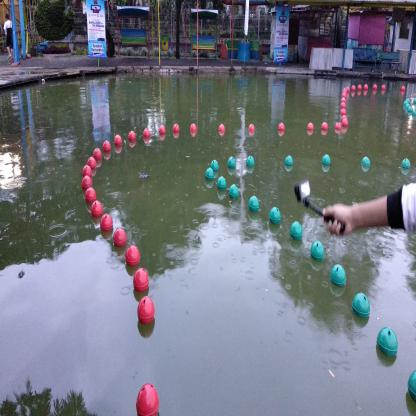green_buoy: (376, 325, 398, 358), (351, 292, 371, 319), (329, 263, 347, 287), (310, 240, 325, 262), (290, 220, 303, 241), (268, 206, 282, 225), (408, 368, 415, 404), (228, 182, 240, 199), (249, 195, 260, 212), (204, 167, 214, 181), (321, 153, 331, 166), (210, 158, 219, 172), (217, 176, 226, 190), (284, 154, 294, 166), (401, 158, 411, 170), (246, 155, 255, 168), (227, 156, 236, 168), (361, 156, 370, 166), (403, 100, 409, 106), (408, 105, 413, 112), (405, 103, 410, 109), (405, 98, 410, 103), (412, 108, 415, 116), (413, 97, 416, 103)
red_buoy: (136, 382, 158, 416), (137, 296, 155, 324), (133, 268, 149, 292), (125, 245, 140, 266), (113, 228, 127, 247), (100, 214, 113, 232), (90, 200, 103, 216), (81, 175, 93, 191), (85, 188, 96, 203), (82, 165, 92, 178), (87, 157, 97, 169), (102, 140, 111, 152), (93, 148, 102, 160), (143, 128, 151, 140), (128, 130, 136, 142), (114, 134, 122, 146), (172, 123, 180, 133), (278, 122, 285, 132), (334, 122, 342, 130), (218, 124, 226, 132), (341, 114, 348, 123), (341, 118, 348, 127), (307, 122, 314, 131), (321, 122, 328, 131), (190, 123, 197, 132), (159, 125, 166, 134), (248, 123, 255, 131), (340, 96, 346, 104), (340, 108, 346, 116), (400, 85, 406, 92), (340, 102, 346, 109), (351, 84, 356, 92), (357, 84, 362, 91), (381, 84, 386, 90), (364, 84, 368, 90), (346, 86, 350, 92), (343, 88, 347, 94), (342, 90, 346, 96), (373, 84, 377, 89), (342, 94, 346, 99)
